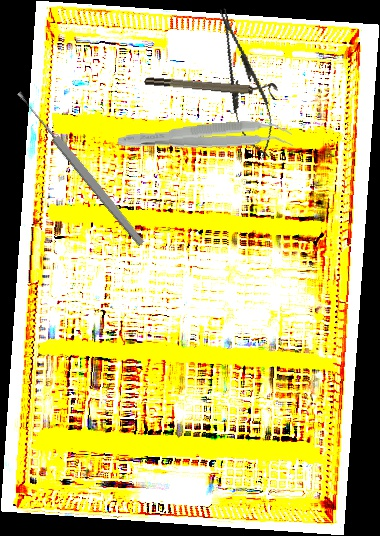Fixation Ring: (143, 69, 280, 101)
Needle Holder: (205, 2, 284, 164)
Surgical Spoon: (14, 88, 147, 248)
Tissue Forceps: (117, 117, 293, 160)
